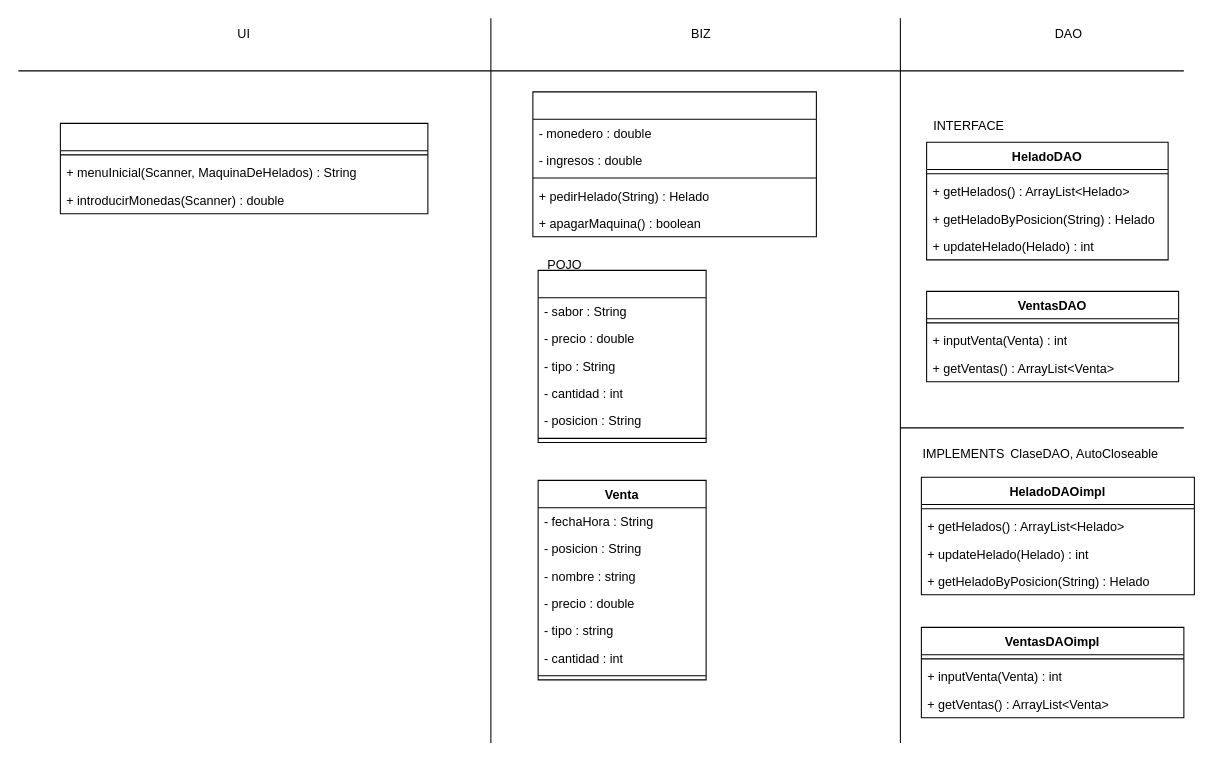
Some shapes in this 1213 by 762 pixel diagram are drawn without their labels. The box of each missing label's shape, as (x1, y1, x2, y2) in pixels:
Exec: (59, 122, 428, 214)
Helado: (537, 269, 706, 443)
MaquinaHelados: (532, 91, 816, 237)
